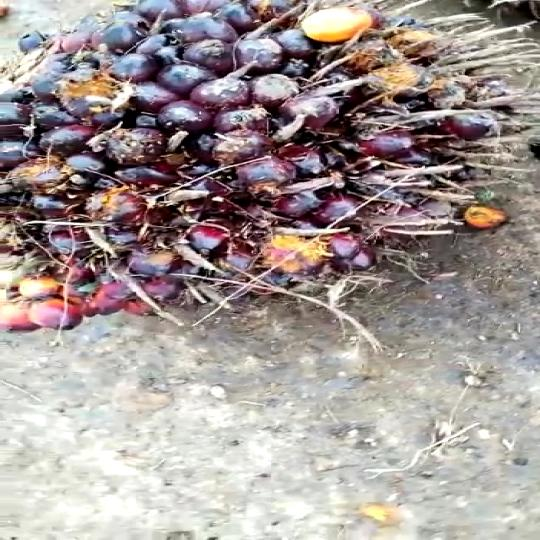masak: (0, 0, 534, 361)
